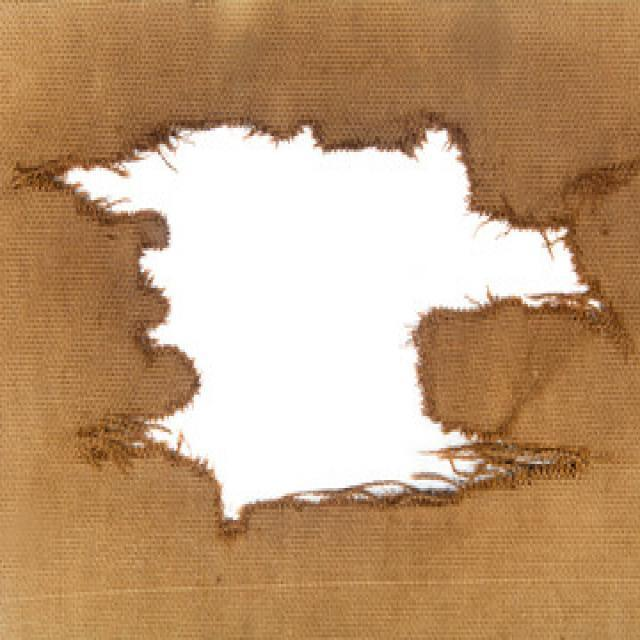Hole: (62, 126, 588, 518)
